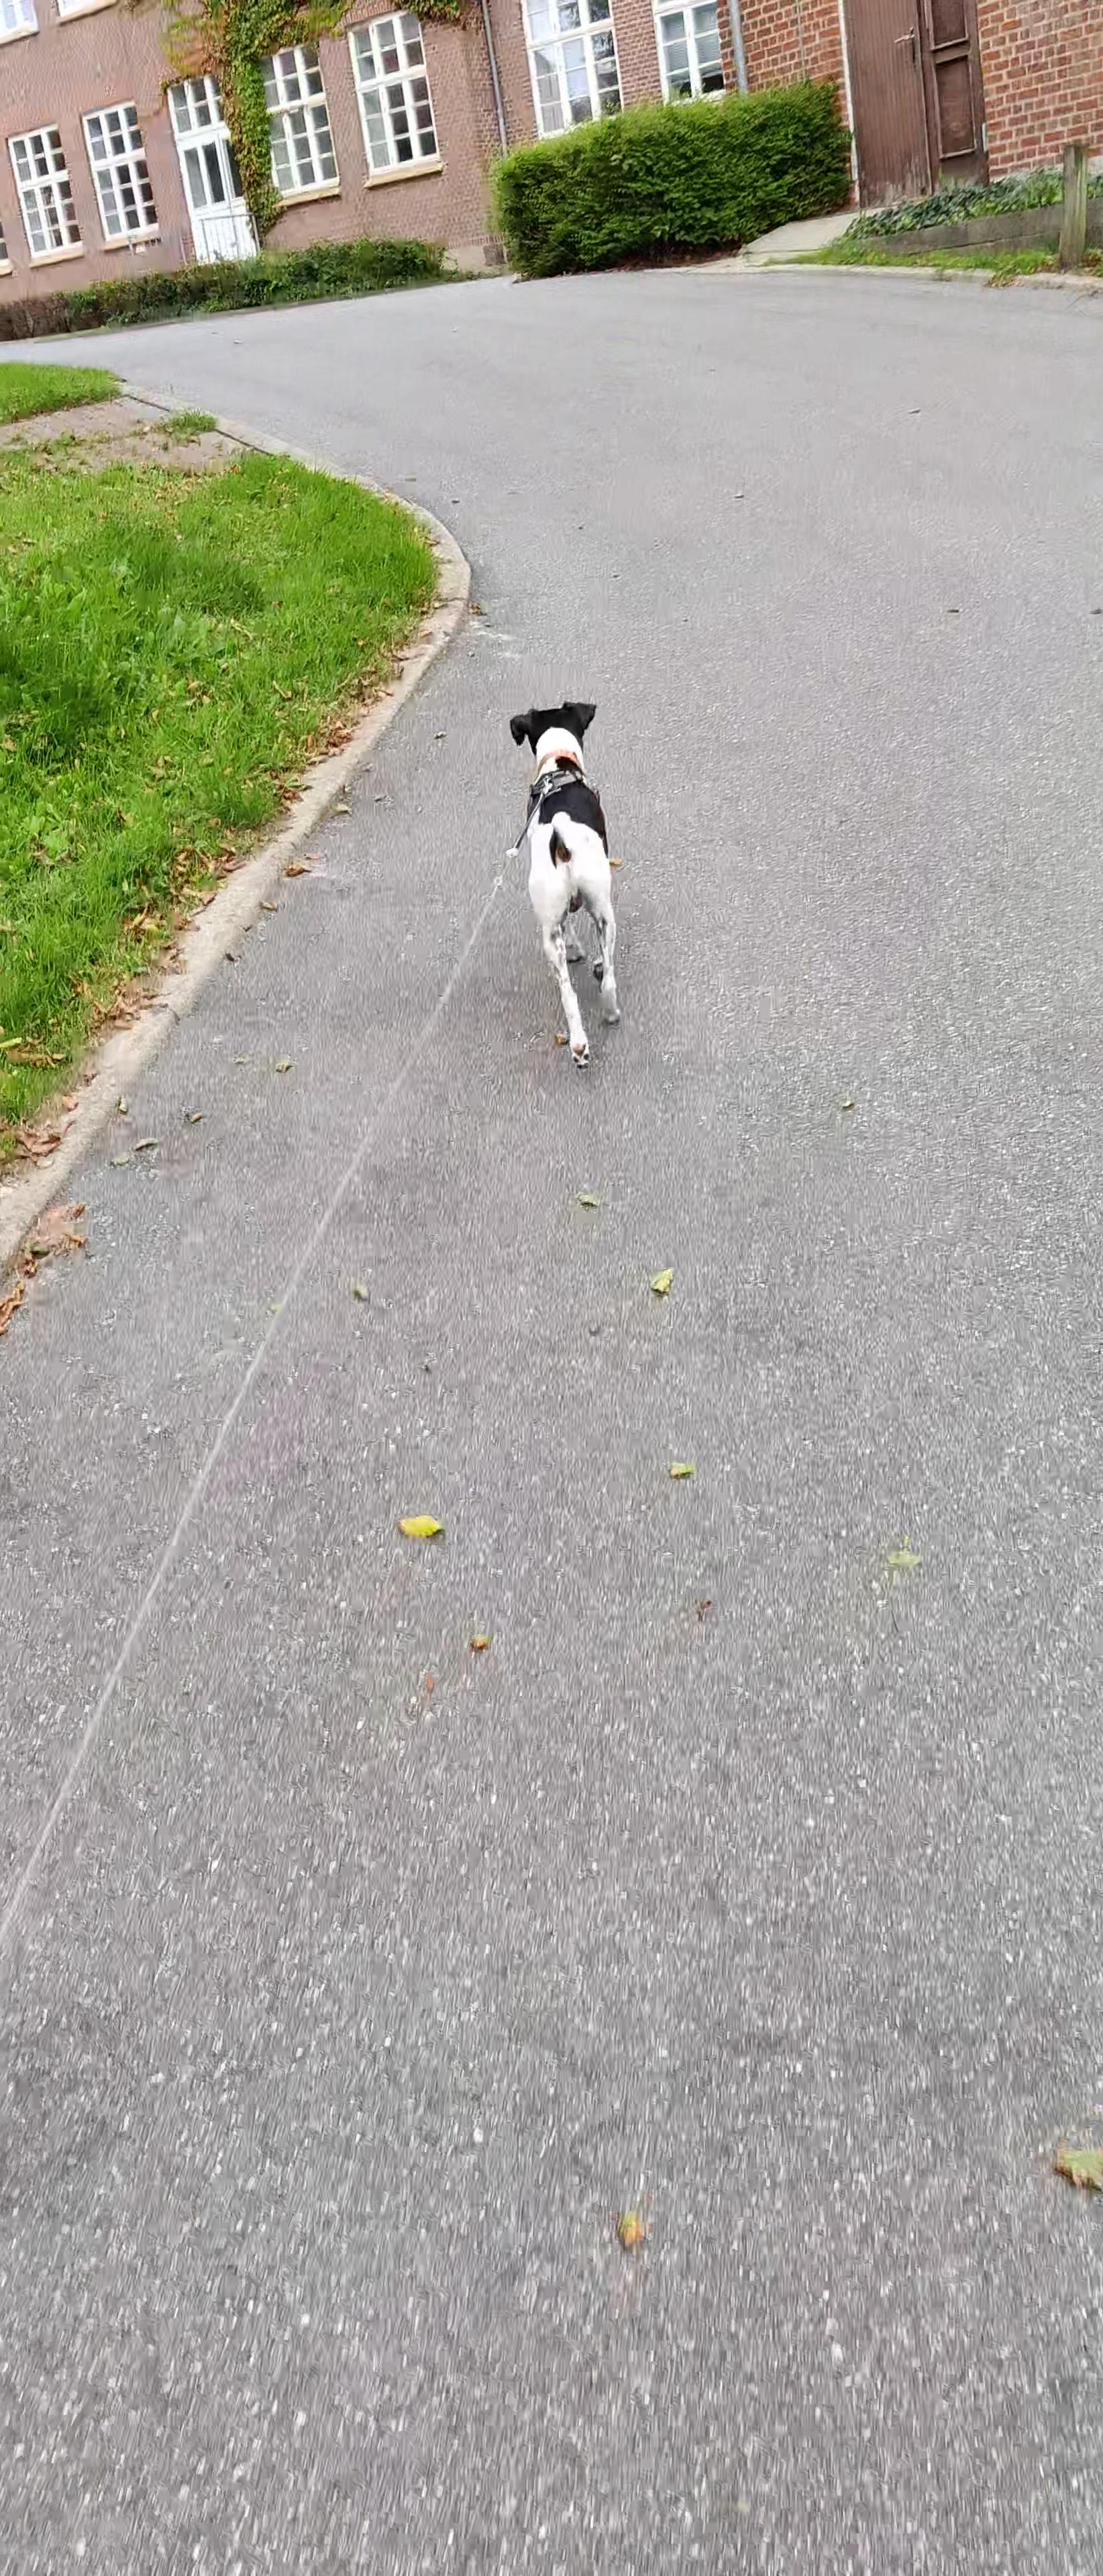Dog: (487, 674, 649, 1073)
